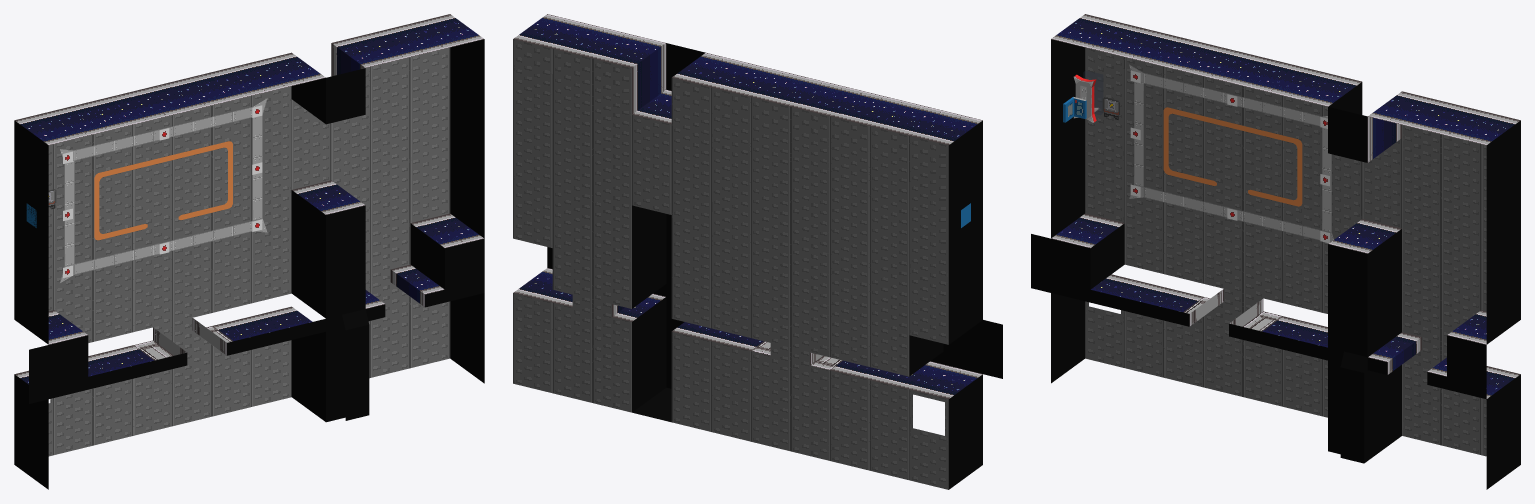
Rendered from GALHQ1-2.obj.
3 renders of one model, left to right at view 1: azimuth 30°, elevation 25°; view 2: azimuth 150°, elevation 25°; view 3: azimuth 330°, elevation 25°, orthographic.
Visible parts, largest first — view 1: m_dun2604_00_00c; view 2: m_dun2604_00_00c; view 3: m_dun2604_00_00c.
Part boxes in pixels (x1,y1,x2,y2): m_dun2604_00_00c: (14,14,484,489); m_dun2604_00_00c: (513,14,1002,489); m_dun2604_00_00c: (1031,14,1520,489).
Bounding box in the file's own units: 368 × 266 × 53.
